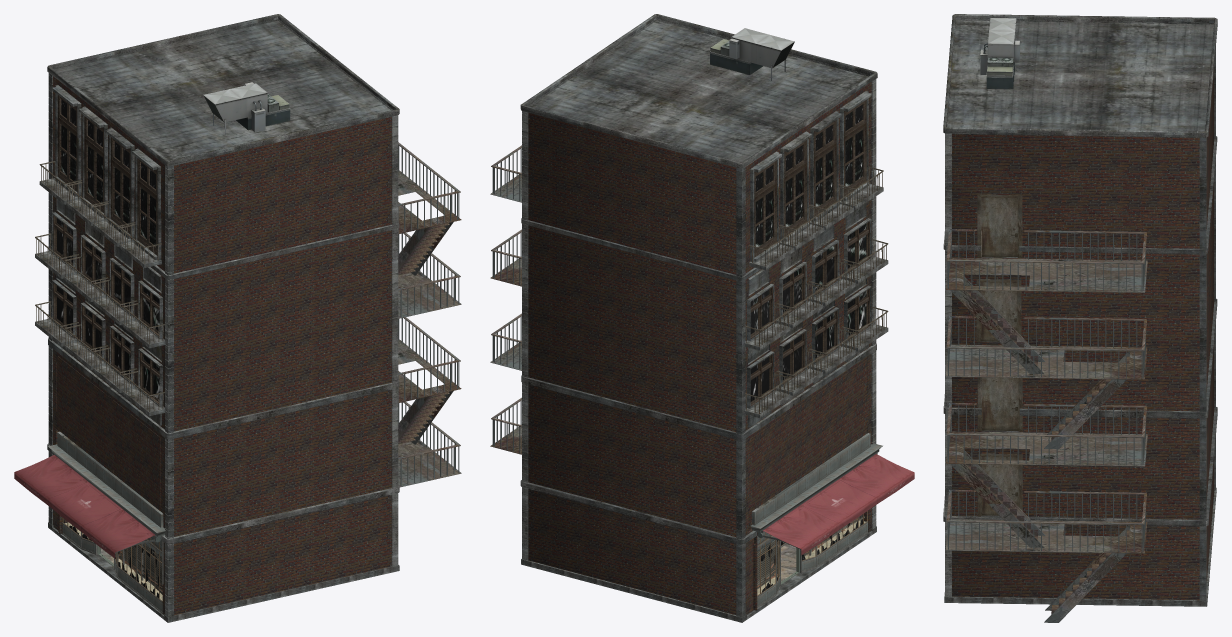
The model's file is raid_compound.glb.
The picture shows the model from 3 angles, left to right: view 1: azimuth 30°, elevation 25°; view 2: azimuth 150°, elevation 25°; view 3: azimuth 270°, elevation 25°; orthographic projection. The views are drawn at different scales.
Visible parts, largest first — view 1: Wall_out_Mat_0, roof_Mat_0, trim_Mat_0, glass_5_2_2_2_Mat_0, stairs2_Mat_0, stairs1_Mat.1_0, 1_9_Mat_0, glass_5_2_3_2_Mat.1_0, 6_Mat_0, 2_9_Mat_0, 1_Mat.1_0, airvent_2_Mat_0 (+2 smaller); view 2: Wall_out_Mat_0, roof_Mat_0, trim_Mat_0, glass_5_2_2_2_Mat_0, glass_5_2_3_2_Mat.1_0, 1_9_Mat_0, 6_Mat_0, 1_Mat.1_0, 2_9_Mat_0, airvent_2_Mat_0, floor1_2_1_Mat_0, stairs1_Mat.1_0 (+2 smaller); view 3: Wall_out_Mat_0, roof_Mat_0, stairs2_Mat_0, stairs1_Mat.1_0, trim_Mat_0, airvent_2_Mat_0, jamb_2_2_Mat_0, door1_3_2_Mat_0, floor1_2_1_Mat_0, door1_1_Mat_0, door1_2_Mat_0, door1_Mat_0.
Part boxes in pixels (x1=…): Wall_out_Mat_0: x1=53, y1=76, x2=391, y2=615; roof_Mat_0: x1=47, y1=14, x2=399, y2=166; trim_Mat_0: x1=47, y1=17, x2=399, y2=617; glass_5_2_2_2_Mat_0: x1=53, y1=95, x2=159, y2=404; stairs2_Mat_0: x1=398, y1=142, x2=461, y2=318; stairs1_Mat.1_0: x1=398, y1=317, x2=461, y2=487; 1_9_Mat_0: x1=35, y1=178, x2=165, y2=416; glass_5_2_3_2_Mat.1_0: x1=57, y1=99, x2=159, y2=399; 6_Mat_0: x1=14, y1=454, x2=154, y2=558; 2_9_Mat_0: x1=35, y1=161, x2=165, y2=411; 1_Mat.1_0: x1=48, y1=431, x2=165, y2=611; airvent_2_Mat_0: x1=203, y1=82, x2=290, y2=135; Wall_out_Mat_0: x1=528, y1=82, x2=871, y2=614; roof_Mat_0: x1=520, y1=14, x2=877, y2=168; trim_Mat_0: x1=520, y1=17, x2=877, y2=617; glass_5_2_2_2_Mat_0: x1=750, y1=100, x2=870, y2=406; glass_5_2_3_2_Mat.1_0: x1=750, y1=104, x2=866, y2=401; 1_9_Mat_0: x1=744, y1=184, x2=888, y2=418; 6_Mat_0: x1=763, y1=454, x2=914, y2=555; 1_Mat.1_0: x1=751, y1=433, x2=882, y2=606; 2_9_Mat_0: x1=744, y1=166, x2=888, y2=413; airvent_2_Mat_0: x1=710, y1=28, x2=794, y2=80; floor1_2_1_Mat_0: x1=521, y1=526, x2=876, y2=622; stairs1_Mat.1_0: x1=490, y1=313, x2=521, y2=454; Wall_out_Mat_0: x1=952, y1=67, x2=1214, y2=600; roof_Mat_0: x1=943, y1=14, x2=1217, y2=137; stairs2_Mat_0: x1=945, y1=229, x2=1147, y2=449; stairs1_Mat.1_0: x1=945, y1=402, x2=1147, y2=622; trim_Mat_0: x1=943, y1=17, x2=1217, y2=600; airvent_2_Mat_0: x1=980, y1=18, x2=1019, y2=89; jamb_2_2_Mat_0: x1=976, y1=194, x2=1022, y2=516; door1_3_2_Mat_0: x1=981, y1=197, x2=1017, y2=257; floor1_2_1_Mat_0: x1=944, y1=487, x2=1216, y2=606; door1_1_Mat_0: x1=982, y1=377, x2=1018, y2=430; door1_2_Mat_0: x1=980, y1=282, x2=1017, y2=341; door1_Mat_0: x1=982, y1=456, x2=1018, y2=515.
Size of the model in its own units: 9.76 by 13.5 by 6.62.
22 materials, 22 textured.
